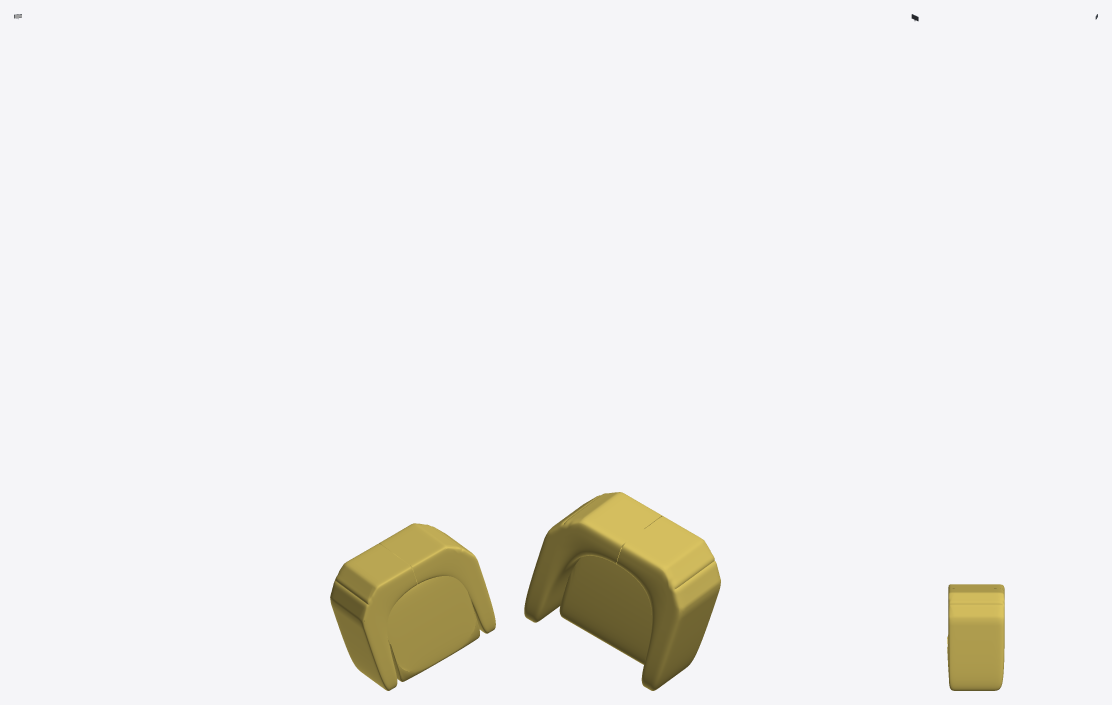
File: 작은티비.fbx
3 views of the same model, side by side, from view 1: azimuth 30°, elevation 25°; view 2: azimuth 150°, elevation 25°; view 3: azimuth 270°, elevation 25° (orthographic). The views are drawn at different scales.
Parts seen in each view (by area): view 1: Cube_Cube_1; view 2: Cube_Cube_1; view 3: Cube_Cube_1.
Boxes of the visible parts, <box> form: Cube_Cube_1: <box>330,523,495,690</box>; Cube_Cube_1: <box>524,492,720,690</box>; Cube_Cube_1: <box>947,584,1004,690</box>.
Size of the model in its own units: 59391 by 98609 by 24463.
